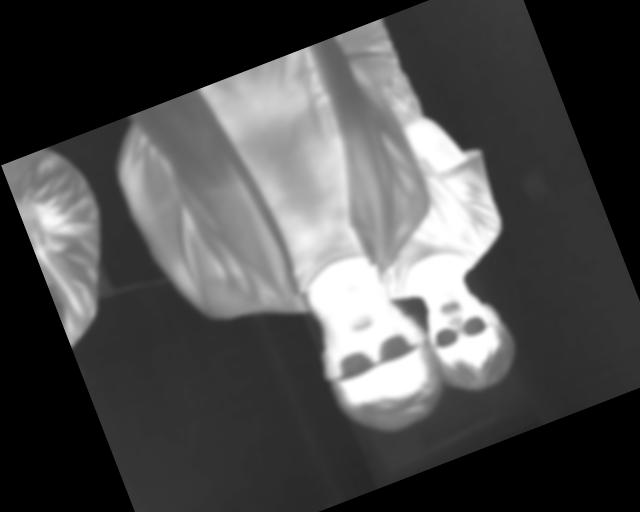face: (298, 270, 454, 452), (414, 273, 528, 404)
